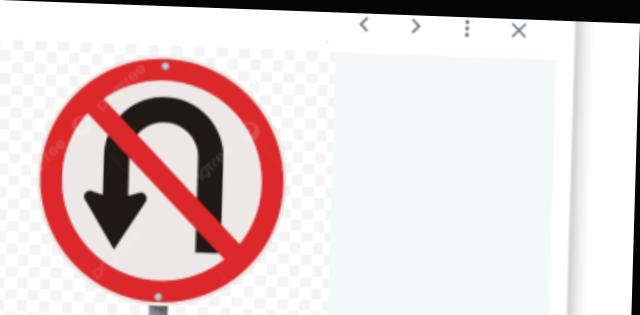not_u_turn_left: (29, 47, 293, 311)
